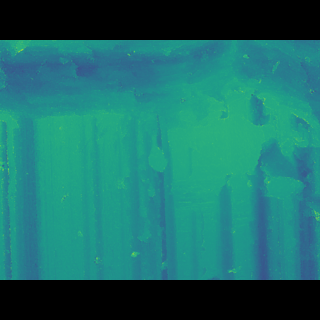Loch: (0, 70, 320, 131), (152, 128, 319, 214)
